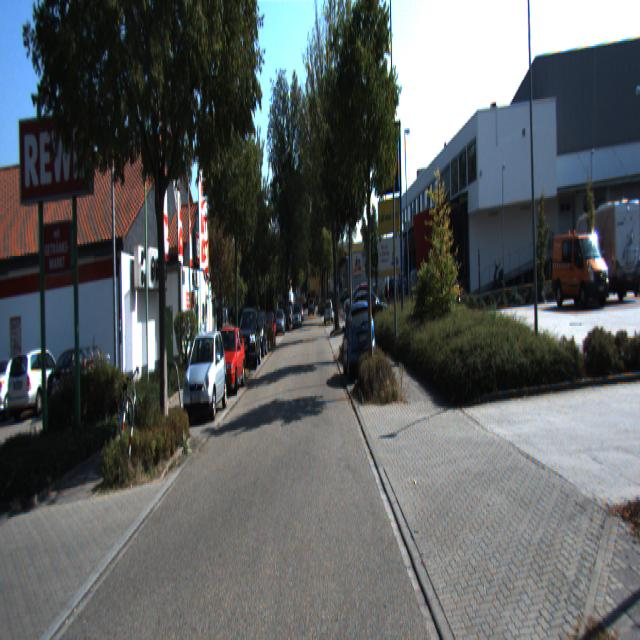Car: (551, 223, 612, 311), (7, 346, 73, 425), (182, 332, 228, 427), (0, 355, 44, 425), (342, 299, 376, 382), (211, 325, 246, 397), (236, 308, 262, 373), (248, 309, 269, 358)
